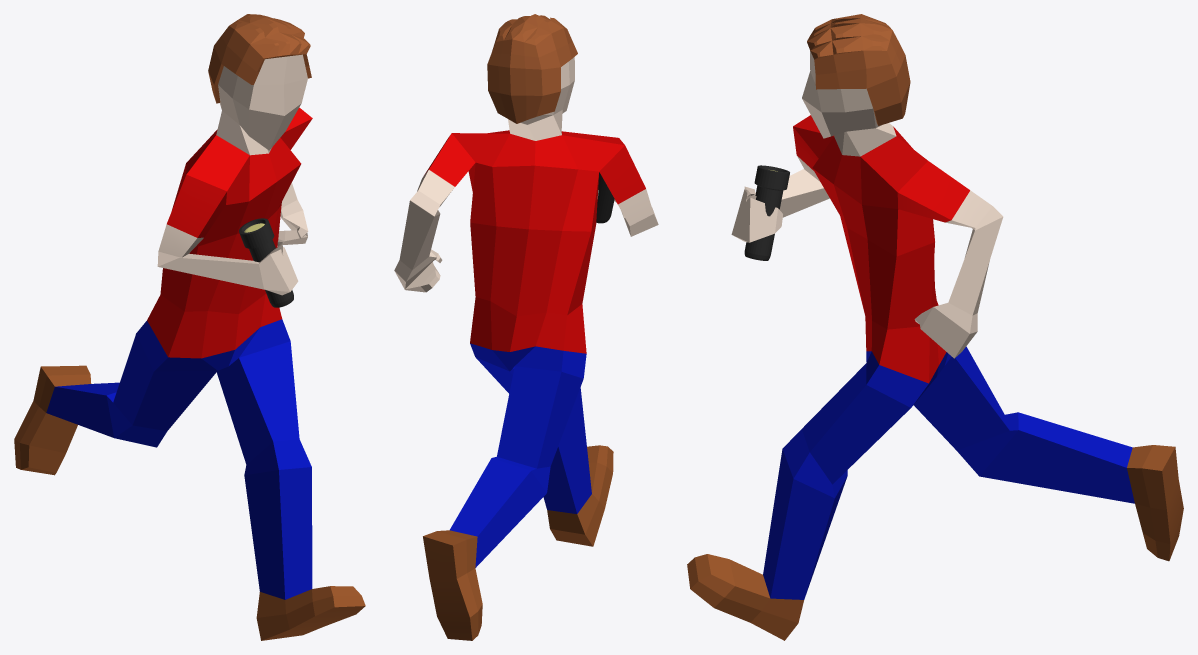
File: Human_running_6.fbx
The picture shows the model from 3 angles, left to right: view 1: azimuth 30°, elevation 25°; view 2: azimuth 150°, elevation 25°; view 3: azimuth 270°, elevation 25°; orthographic projection. The views are drawn at different scales.
Parts seen in each view (by area): view 1: Person.004, Flashlight; view 2: Person.004, Flashlight; view 3: Person.004, Flashlight.
Boxes of the visible parts, left/top/right/bottom form: Person.004: left=14, top=14, right=365, bottom=640; Flashlight: left=239, top=218, right=293, bottom=307; Person.004: left=394, top=14, right=658, bottom=640; Flashlight: left=596, top=172, right=614, bottom=223; Person.004: left=687, top=14, right=1183, bottom=640; Flashlight: left=744, top=165, right=789, bottom=260.
Bounding box in the file's own units: 0.5817 × 1.52 × 1.11.
